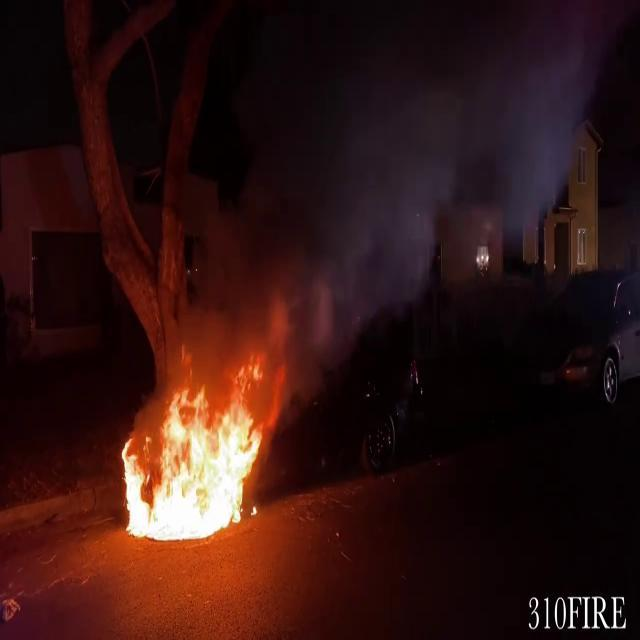Fire: (119, 373, 263, 538)
Smoke: (202, 0, 607, 384)
